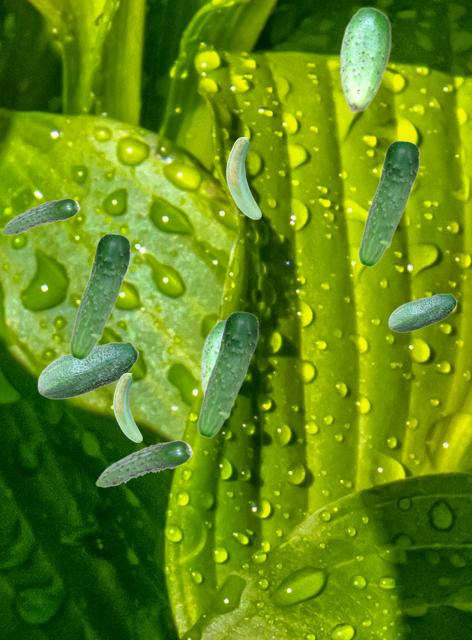cucumber: (357, 140, 419, 266), (196, 311, 258, 437), (68, 233, 130, 359), (37, 341, 138, 398), (339, 6, 390, 112), (95, 440, 192, 486), (1, 198, 79, 234), (226, 137, 260, 218), (388, 293, 456, 331), (113, 373, 141, 441), (200, 319, 224, 395)
